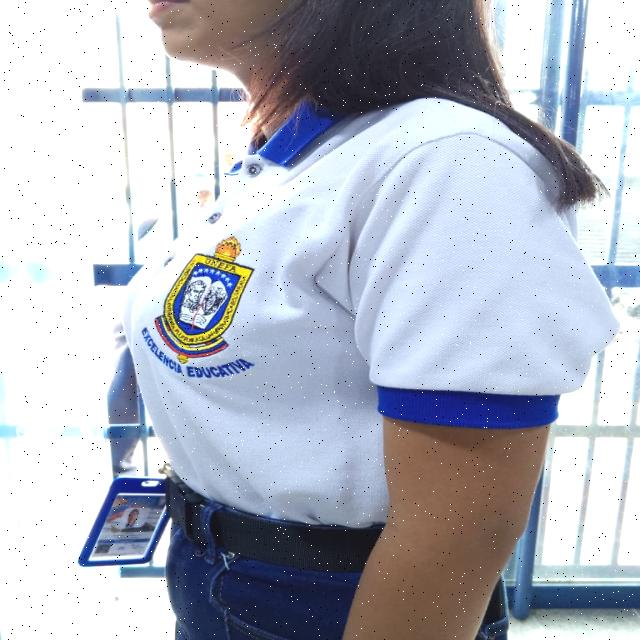carnet: (86, 492, 166, 564)
uniforme_superior: (116, 95, 621, 531)
